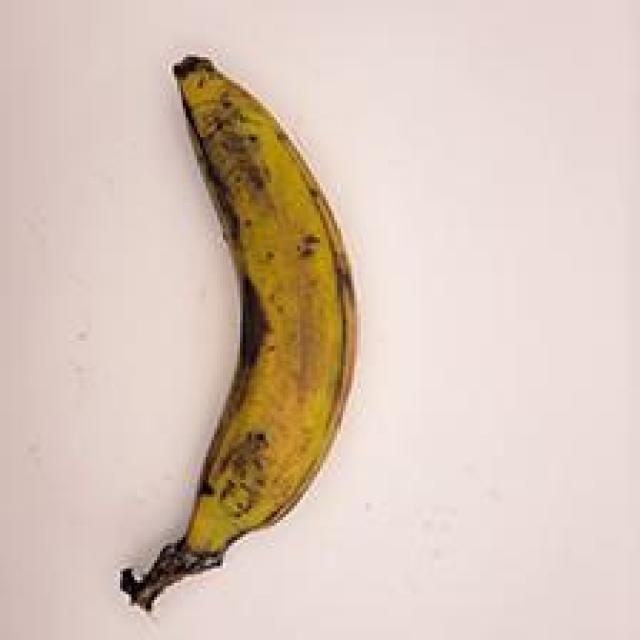Overripe: (49, 17, 379, 615)
